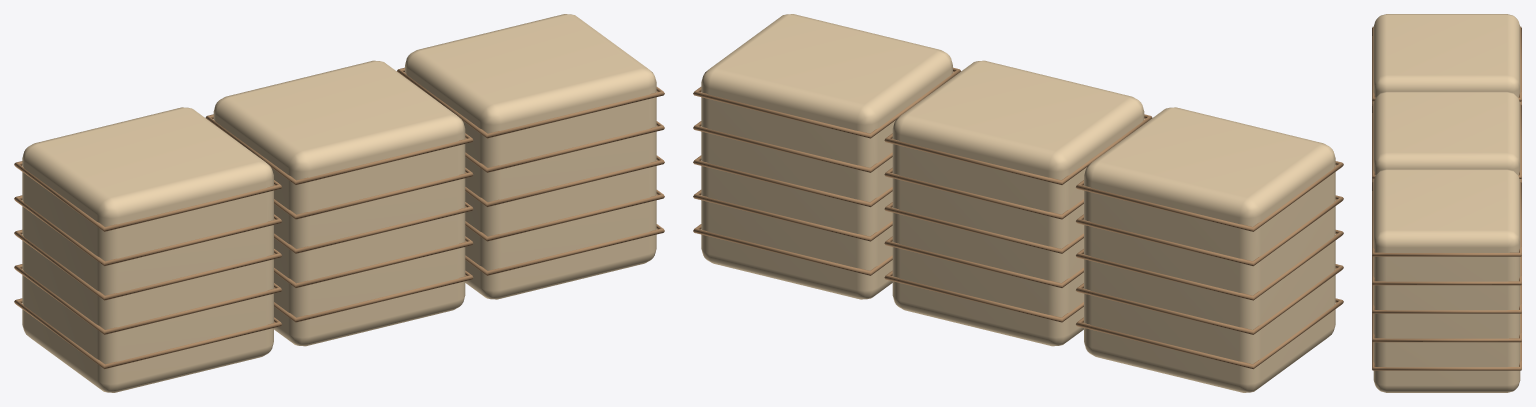
File: atelier-storage-baskets.glb
3 views of the same model, side by side, from view 1: azimuth 30°, elevation 25°; view 2: azimuth 150°, elevation 25°; view 3: azimuth 270°, elevation 25° (orthographic). The views are drawn at different scales.
Parts seen in each view (by area): view 1: accent.013, legs.106; view 2: accent.013, legs.106; view 3: accent.013, legs.106.
Boxes of the visible parts, <box> form: accent.013: <box>22,14,656,392</box>; legs.106: <box>14,67,664,369</box>; accent.013: <box>701,14,1335,392</box>; legs.106: <box>693,67,1343,369</box>; accent.013: <box>1373,14,1520,392</box>; legs.106: <box>1372,26,1521,370</box>.
Size of the model in its own units: 1.03 by 0.34 by 0.2857.
